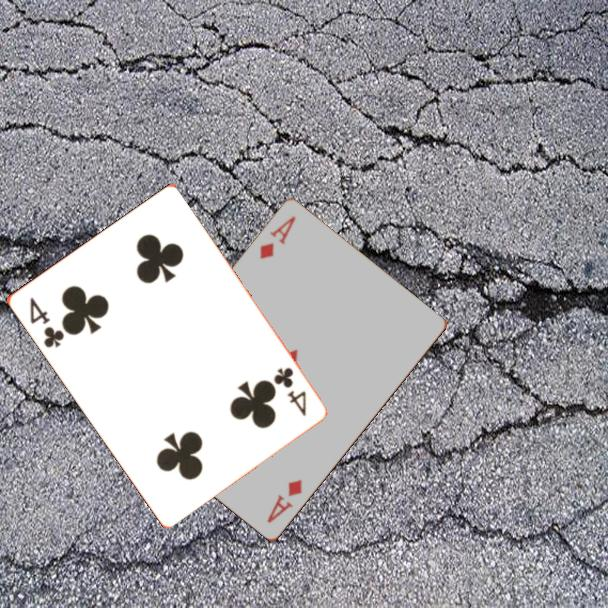c04: (26, 293, 67, 351), (270, 363, 309, 419)
d01: (256, 213, 299, 263), (263, 476, 305, 526)
